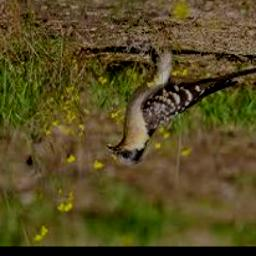Cuckoo: (107, 47, 256, 166)
